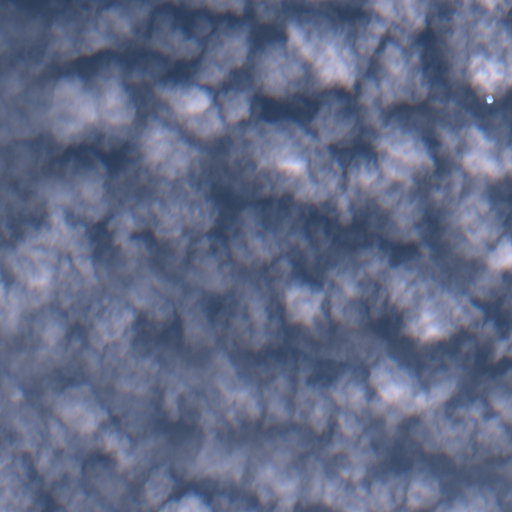Iceberg: (487, 95, 493, 103)
